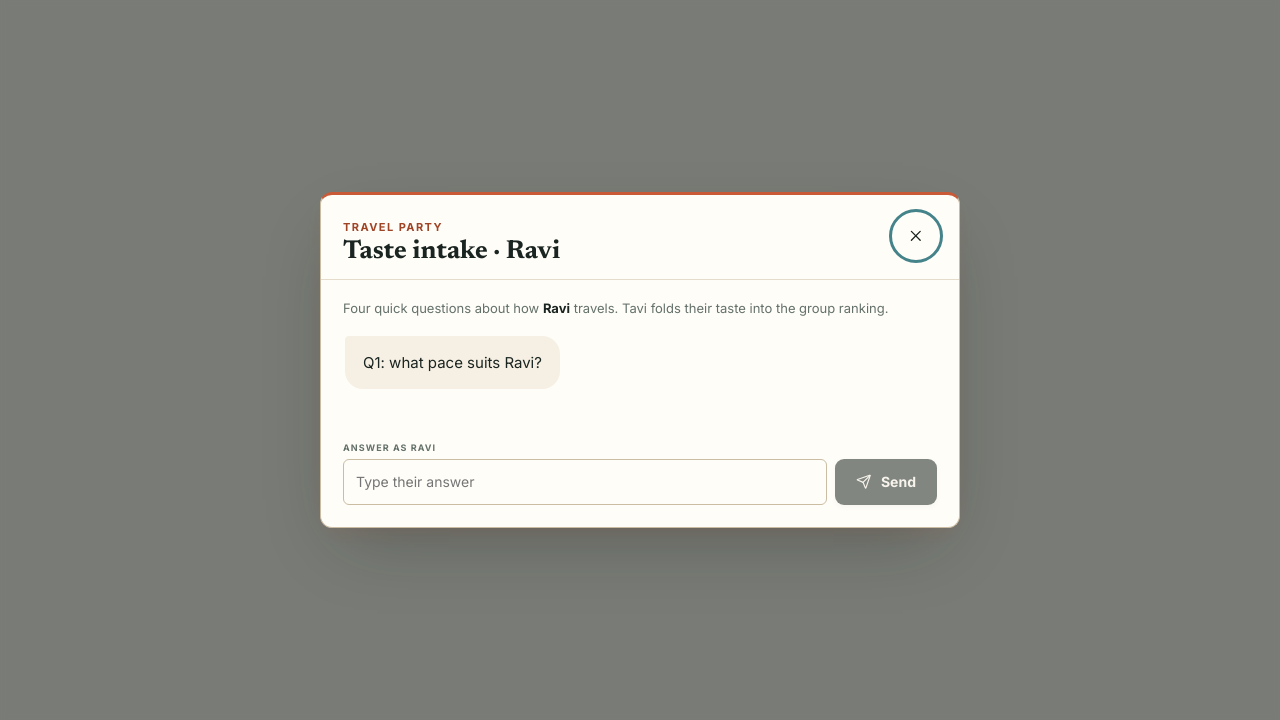
Test case: reuses the same turn key when an answer is retried
Expected: the text "Q1: what pace suits Ravi?" is shown, x1=345 y1=336 x2=560 y2=389
Type "Slow and steady" into the field labelled "Answer as Ravi" at (585, 482), box x1=343 y1=459 x2=826 y2=505
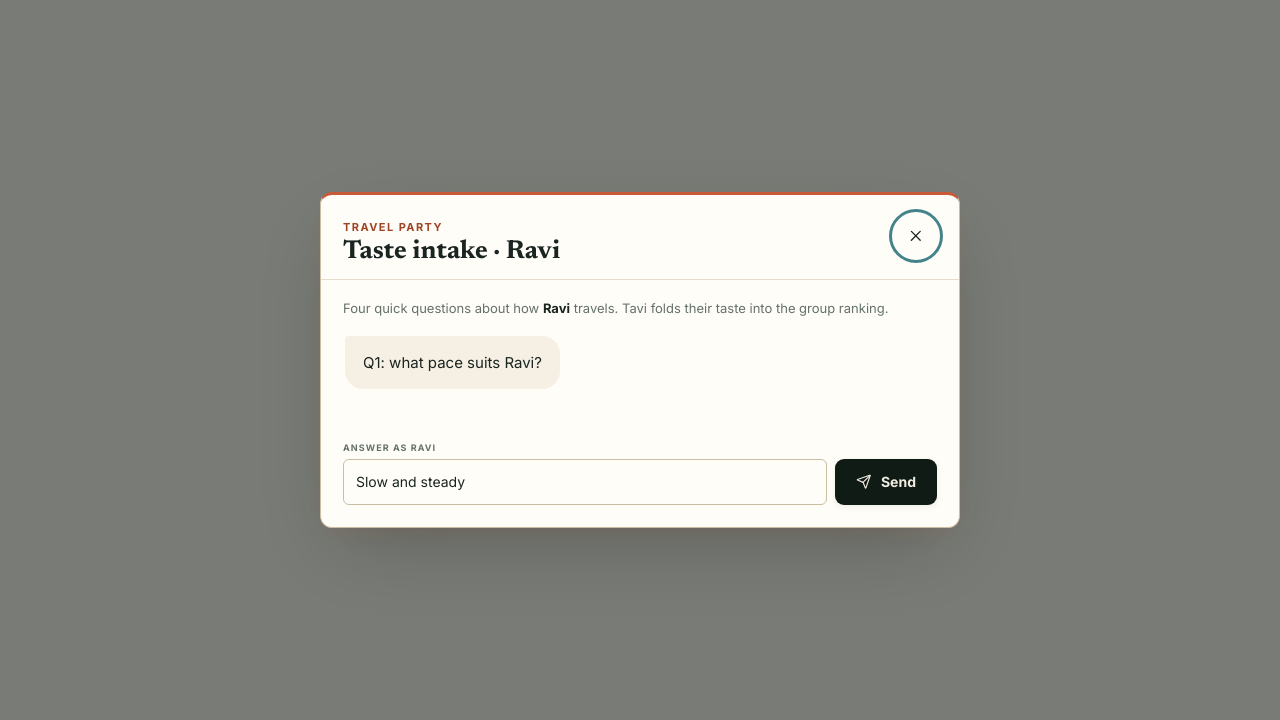
Click the button "Send" at (886, 482), box x1=834 y1=459 x2=937 y2=505
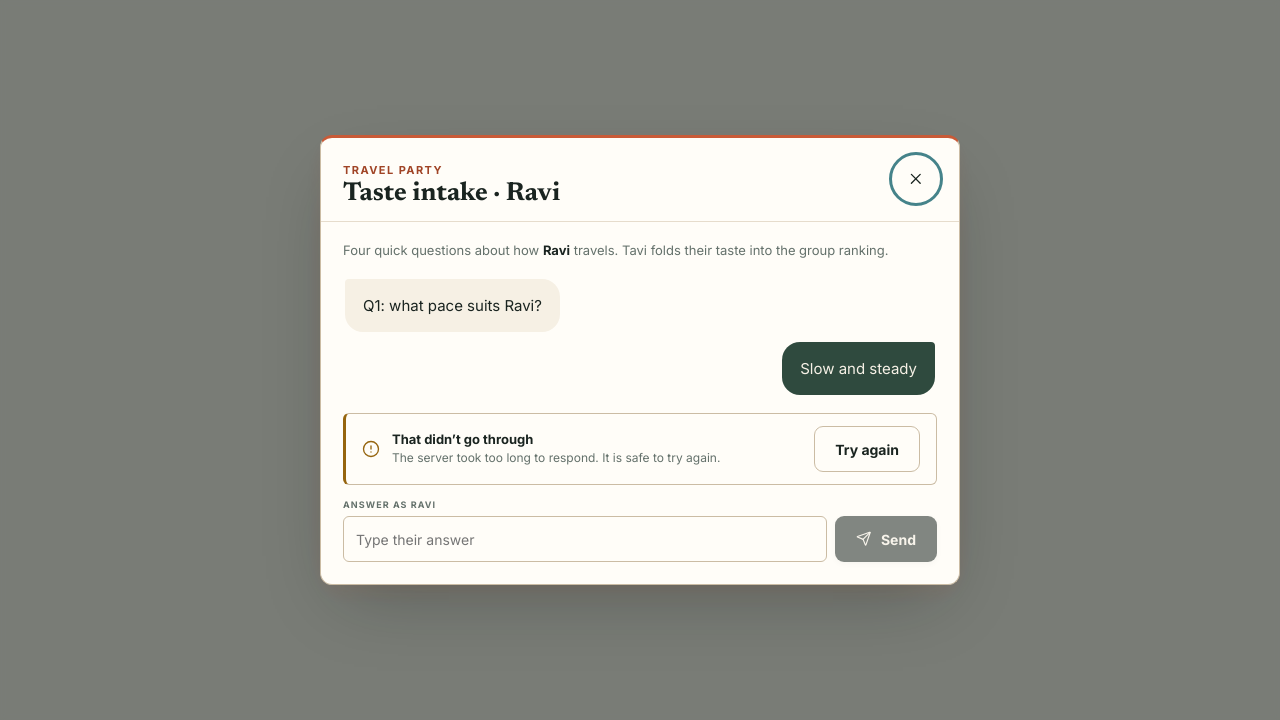
Now the text "That didn’t go through" is shown, box x1=392 y1=431 x2=533 y2=447
Click the button "Try again" at (867, 449), box x1=814 y1=426 x2=920 y2=472
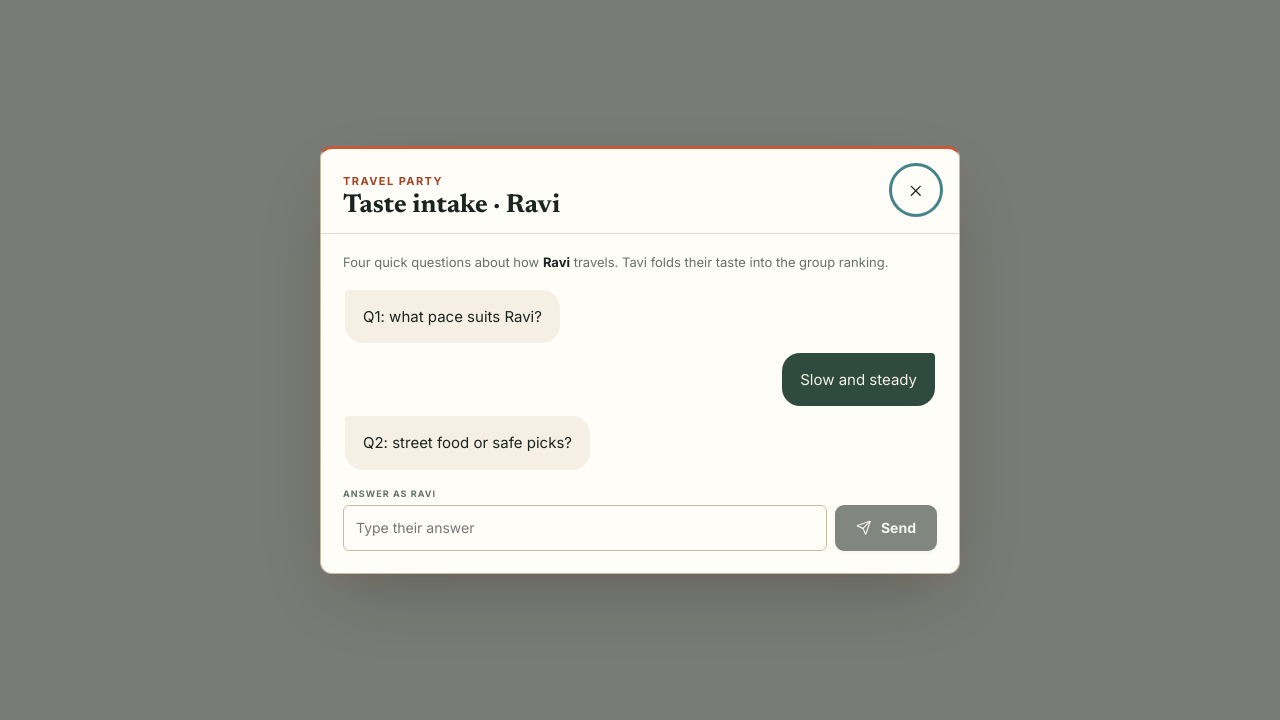
Now the text "Q2: street food or safe picks?" is shown, box x1=345 y1=416 x2=590 y2=470
Now the text "Slow and steady" is shown once, box x1=782 y1=353 x2=935 y2=406
